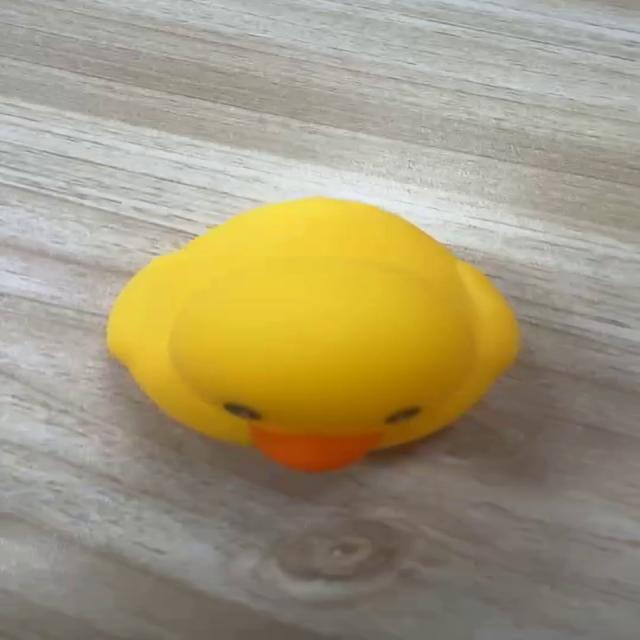yellow_duck: (103, 195, 522, 473)
